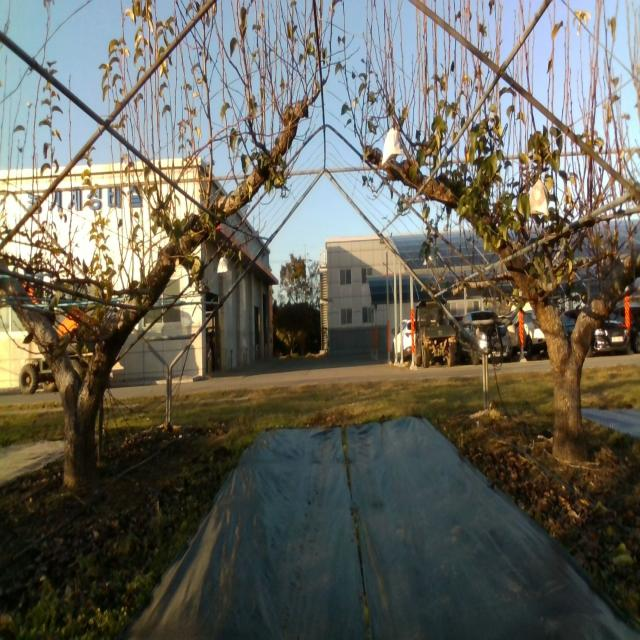pearbags: (529, 178, 550, 218), (382, 127, 402, 167), (216, 254, 228, 274)
